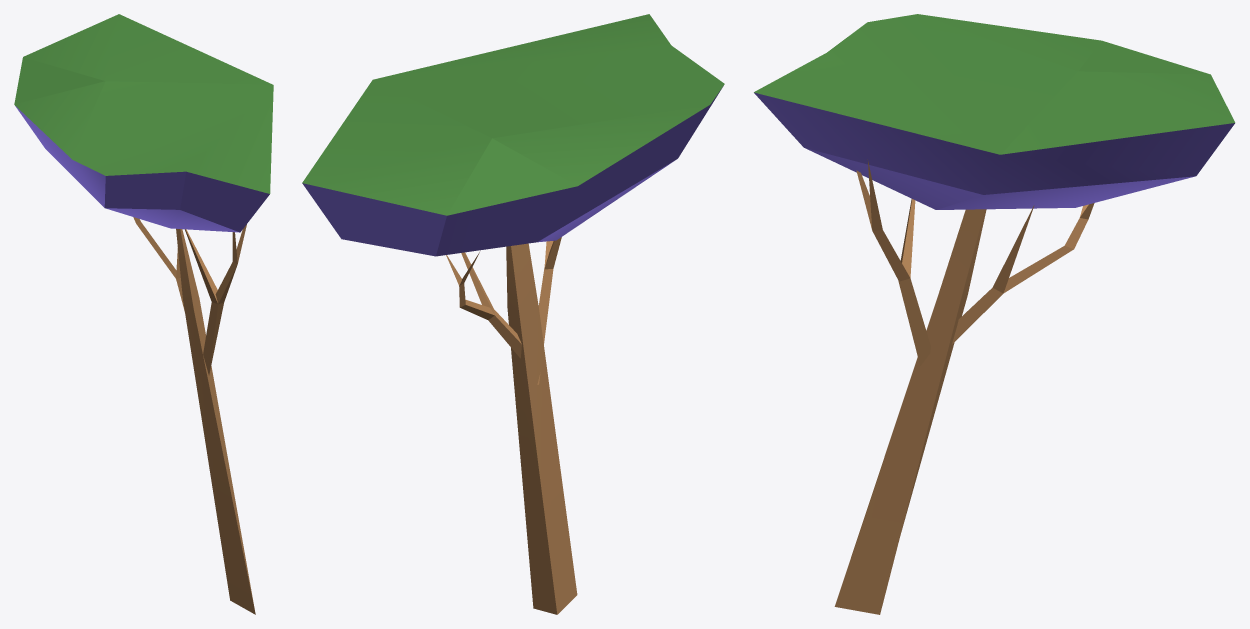
File: tree_B_canopy_B_E_solo_LOD3.fbx
The picture shows the model from 3 angles, left to right: view 1: azimuth 30°, elevation 25°; view 2: azimuth 150°, elevation 25°; view 3: azimuth 270°, elevation 25°; orthographic projection. The views are drawn at different scales.
Parts seen in each view (by area): view 1: tree_B_canopy_B_E, tree_B_canopy_B_trunk_A1, tree_B_canopy_B_trunk_C1, tree_B_canopy_B_trunk_I1; view 2: tree_B_canopy_B_E, tree_B_canopy_B_trunk_A1, tree_B_canopy_B_trunk_I1, tree_B_canopy_B_trunk_C1; view 3: tree_B_canopy_B_E, tree_B_canopy_B_trunk_A1, tree_B_canopy_B_trunk_C1, tree_B_canopy_B_trunk_I1.
Boxes of the visible parts, bbox=[...] form: tree_B_canopy_B_E: bbox=[14, 14, 273, 232]; tree_B_canopy_B_trunk_A1: bbox=[176, 229, 255, 614]; tree_B_canopy_B_trunk_C1: bbox=[185, 224, 246, 378]; tree_B_canopy_B_trunk_I1: bbox=[133, 217, 184, 310]; tree_B_canopy_B_E: bbox=[302, 14, 724, 256]; tree_B_canopy_B_trunk_A1: bbox=[506, 243, 577, 614]; tree_B_canopy_B_trunk_I1: bbox=[446, 252, 521, 358]; tree_B_canopy_B_trunk_C1: bbox=[537, 237, 561, 384]; tree_B_canopy_B_E: bbox=[754, 14, 1235, 209]; tree_B_canopy_B_trunk_A1: bbox=[834, 209, 986, 614]; tree_B_canopy_B_trunk_C1: bbox=[856, 159, 930, 365]; tree_B_canopy_B_trunk_I1: bbox=[952, 203, 1094, 344].
Size of the model in its own units: 207 by 385 by 327.
